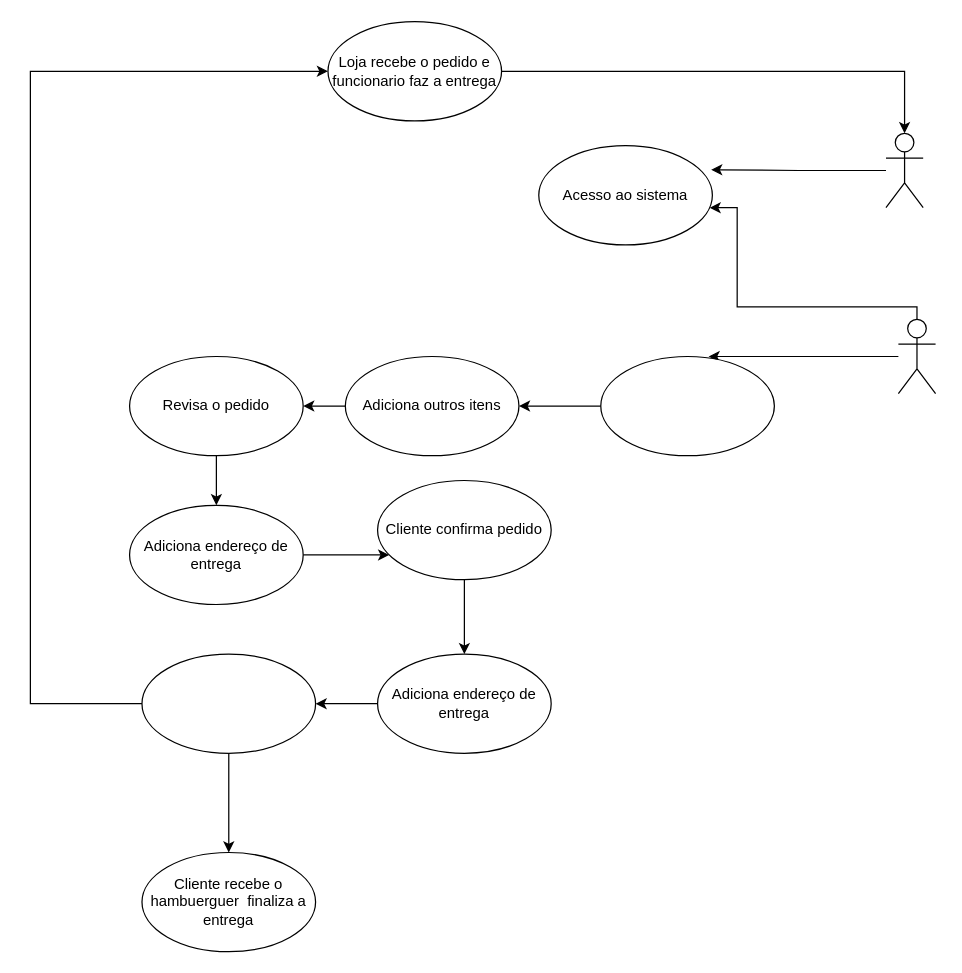
Some shapes in this 962 by 973 pixel diagram are drawn without their labels. Each missing label, with the centre of its shape:
"Cliente" goes at (x=916, y=356).
"Entregador" goes at (x=904, y=170).
"Seleciona lanche no menu do sistema" goes at (x=687, y=405).
"Sistema mostra resumo e codigo do pedido" goes at (x=228, y=703).
